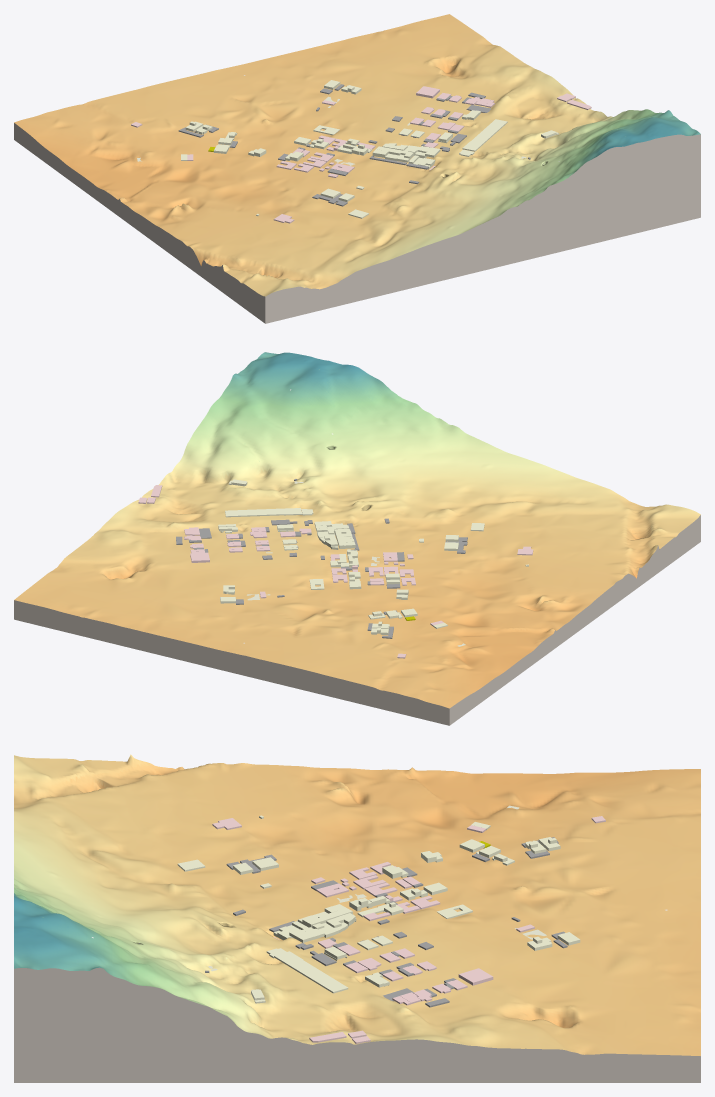
File: try.gltf
The picture shows the model from 3 angles, top to bottom: view 1: azimuth 30°, elevation 25°; view 2: azimuth 150°, elevation 25°; view 3: azimuth 270°, elevation 25°; orthographic projection. The views are drawn at different scales.
Visible parts, largest first — view 1: baseDTM, side (×2), Quemoy building_All; view 2: baseDTM, side (×2), Quemoy building_All; view 3: baseDTM, side, Quemoy building_All.
Part boxes in pixels (x1,y1,x2,y2): baseDTM: [14, 14, 700, 296]; side (×2): [14, 123, 700, 323]; Quemoy building_All: [131, 80, 591, 223]; baseDTM: [14, 352, 700, 708]; side (×2): [14, 515, 700, 725]; Quemoy building_All: [138, 479, 533, 658]; baseDTM: [14, 754, 700, 1055]; side: [14, 967, 700, 1082]; Quemoy building_All: [177, 805, 605, 1043].
Bounding box in the file's own units: 415 × 91.6 × 415.
Materials: 7 (1 with a texture image).
